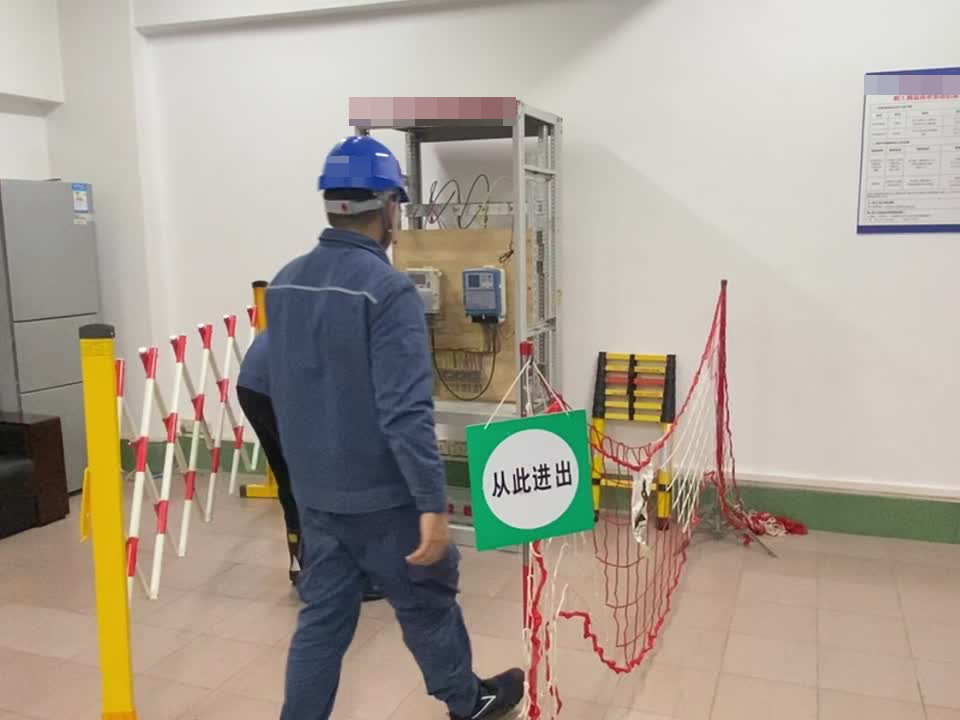downsuit: (270, 518, 492, 720)
halt: (315, 134, 413, 244)
hand: (409, 512, 465, 568)
inear: (370, 192, 404, 237)
intosign: (467, 408, 595, 550)
person: (236, 129, 529, 720)
upsuit: (264, 234, 448, 501)
